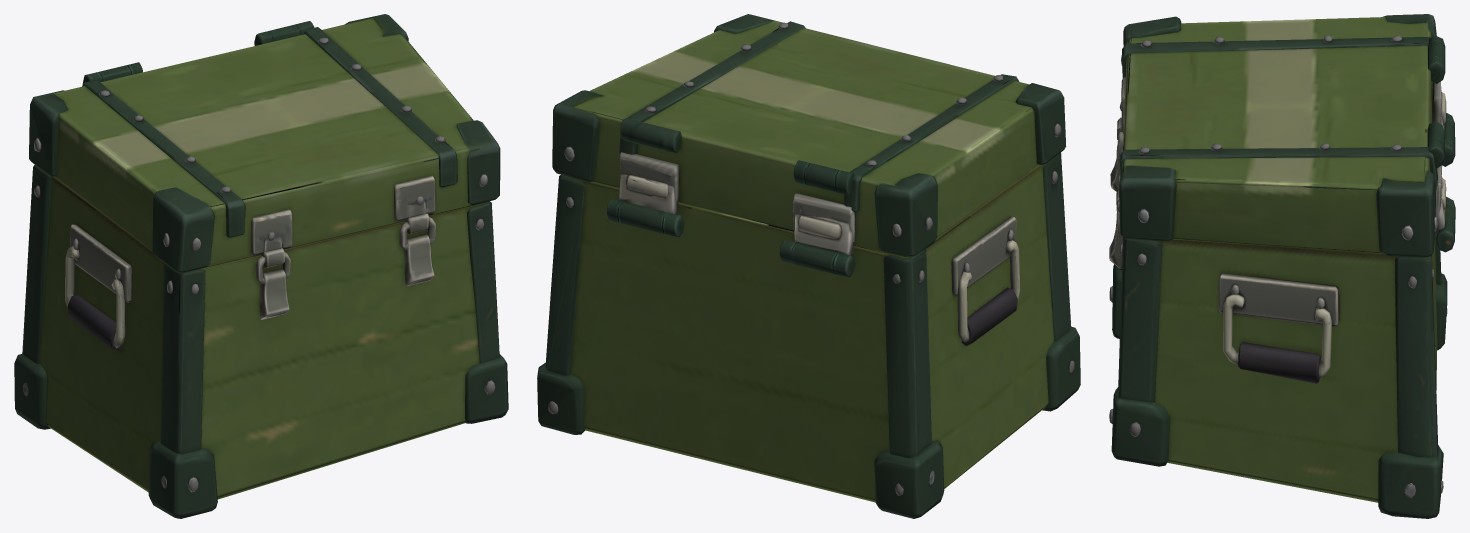
Rendered from tier-2-supply.glb.
The picture shows the model from 3 angles, left to right: view 1: azimuth 30°, elevation 25°; view 2: azimuth 150°, elevation 25°; view 3: azimuth 270°, elevation 25°; orthographic projection.
Visible parts, largest first — view 1: tier-2-supply; view 2: tier-2-supply; view 3: tier-2-supply.
Part boxes in pixels (x1,y1,x2,y2): tier-2-supply: (14,14,508,518); tier-2-supply: (537,14,1080,518); tier-2-supply: (1109,14,1455,518).
Size of the model in its own units: 1.1 by 0.9 by 0.85.
1 material, 1 textured.
